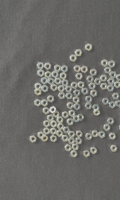nut: (85, 43, 93, 52), (70, 54, 78, 62), (37, 62, 45, 70), (61, 65, 69, 73), (54, 65, 62, 73), (78, 81, 86, 89), (58, 85, 66, 93), (41, 85, 49, 93), (47, 95, 55, 103), (41, 99, 49, 107), (85, 133, 93, 141), (43, 120, 51, 128), (50, 135, 58, 143), (75, 49, 83, 56), (109, 60, 116, 68), (102, 59, 109, 67), (44, 63, 52, 70), (90, 69, 98, 76), (81, 66, 89, 73), (74, 65, 81, 73), (76, 73, 84, 80), (110, 71, 117, 79), (60, 72, 67, 80), (45, 71, 52, 79), (87, 76, 95, 83), (100, 75, 108, 82), (108, 78, 116, 85), (107, 85, 115, 92), (89, 83, 97, 90), (71, 82, 79, 89), (48, 78, 55, 86), (41, 77, 48, 85), (65, 86, 73, 93), (51, 84, 58, 92), (58, 93, 66, 100), (112, 93, 120, 100), (85, 103, 93, 110), (110, 101, 117, 109), (74, 103, 81, 111), (67, 102, 74, 110), (34, 99, 41, 107), (43, 107, 50, 115), (47, 115, 55, 122), (62, 111, 69, 119), (67, 119, 75, 126), (107, 118, 115, 125), (104, 124, 111, 132), (109, 133, 117, 140), (99, 131, 106, 139), (92, 130, 99, 138), (91, 147, 98, 155), (84, 150, 91, 158), (76, 131, 84, 138), (63, 127, 71, 134), (68, 131, 76, 138), (43, 128, 51, 135), (41, 135, 49, 142), (50, 128, 57, 136), (56, 131, 64, 138), (68, 138, 76, 145), (72, 144, 80, 151), (105, 67, 112, 74), (52, 71, 59, 78), (38, 70, 45, 77), (95, 78, 102, 85), (101, 83, 108, 90), (62, 80, 69, 87), (55, 78, 62, 85), (35, 89, 42, 96), (82, 88, 89, 95), (74, 90, 81, 97), (66, 93, 73, 100), (91, 90, 98, 97), (86, 96, 93, 103), (94, 109, 101, 116), (103, 98, 110, 105), (73, 97, 80, 104), (50, 107, 57, 114), (53, 111, 60, 118), (69, 110, 76, 117), (78, 114, 85, 121), (73, 116, 80, 123), (57, 117, 64, 124), (111, 145, 118, 152), (76, 138, 83, 145), (51, 121, 58, 128), (30, 136, 37, 143), (38, 132, 45, 139), (62, 135, 69, 142), (65, 145, 72, 152), (71, 151, 78, 158), (57, 124, 65, 130), (35, 83, 42, 89), (115, 81, 120, 89), (93, 105, 101, 110), (116, 100, 120, 108), (116, 74, 120, 81)
